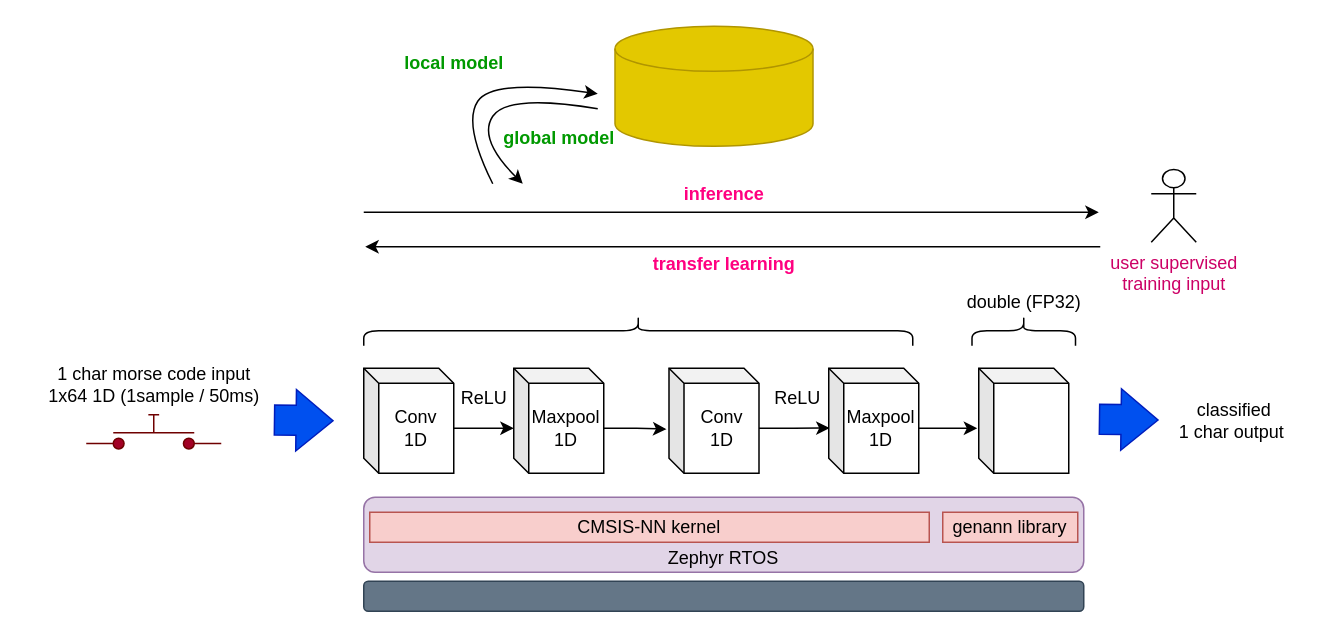
This 1334x638 diagram has some shape labels left out. The centre of each missing label's shape, as x and y in pixels:
"FC 1 input 0 hidden 1 outpu t" belongs at point 1023,420.
"FL server Flower framework" belongs at point 713,85.
"q7_t (INT8)" belongs at point 637,330.
"STM32H743 (480MHz Cortex-M7, 2MB FLASH, 1MB SRAM)" belongs at point 723,595.
